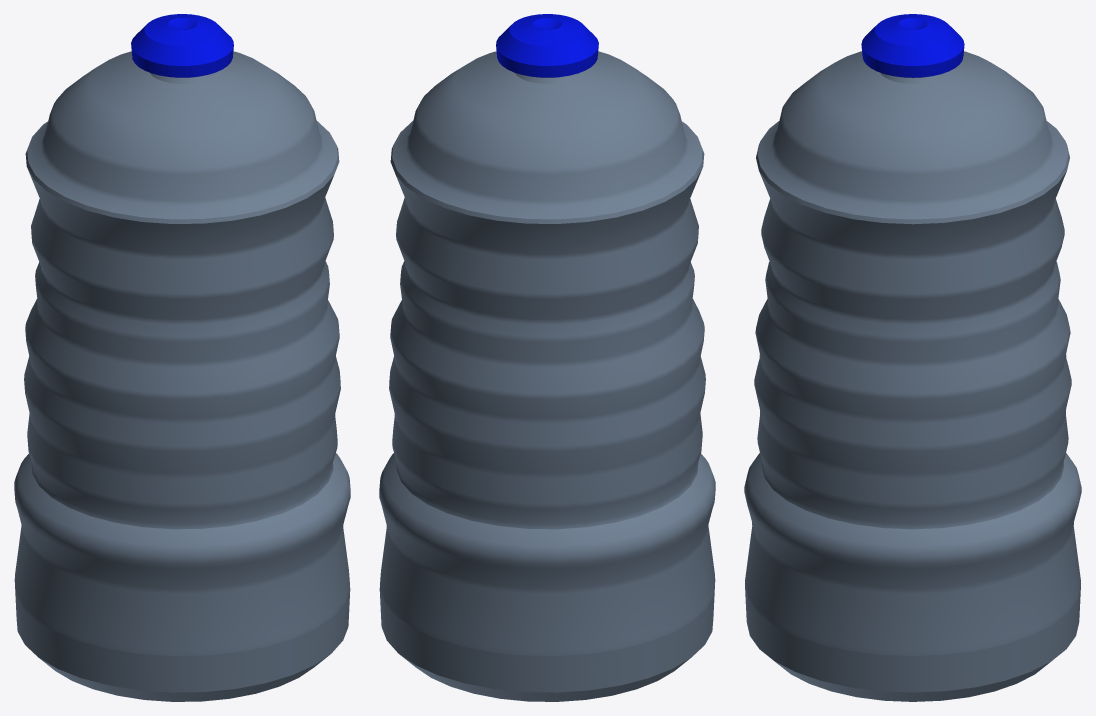
File: bottle46.glb
The picture shows the model from 3 angles, left to right: view 1: azimuth 30°, elevation 25°; view 2: azimuth 150°, elevation 25°; view 3: azimuth 270°, elevation 25°; orthographic projection.
Parts seen in each view (by area): view 1: Bottle46; view 2: Bottle46; view 3: Bottle46.
Part boxes in pixels (x1,y1,x2,y2): Bottle46: (14, 14, 350, 701); Bottle46: (379, 14, 715, 701); Bottle46: (744, 14, 1081, 701).
Size of the model in its own units: 0.7365 by 1.48 by 0.7365.
